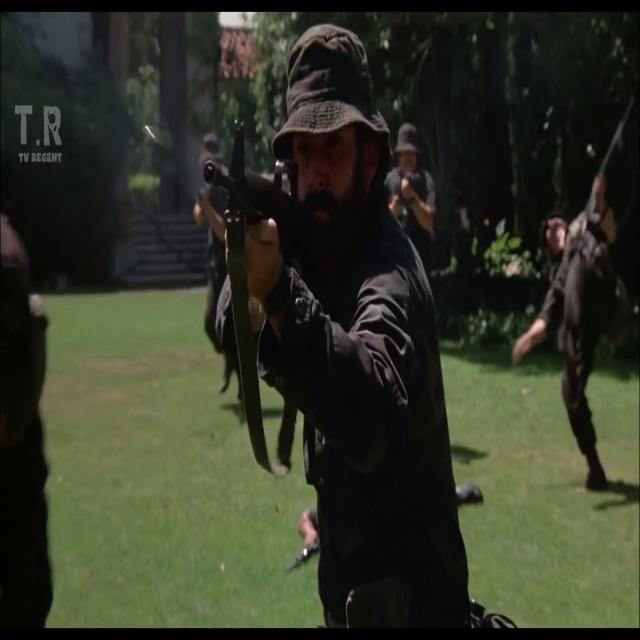long weapon: (209, 114, 331, 331)
